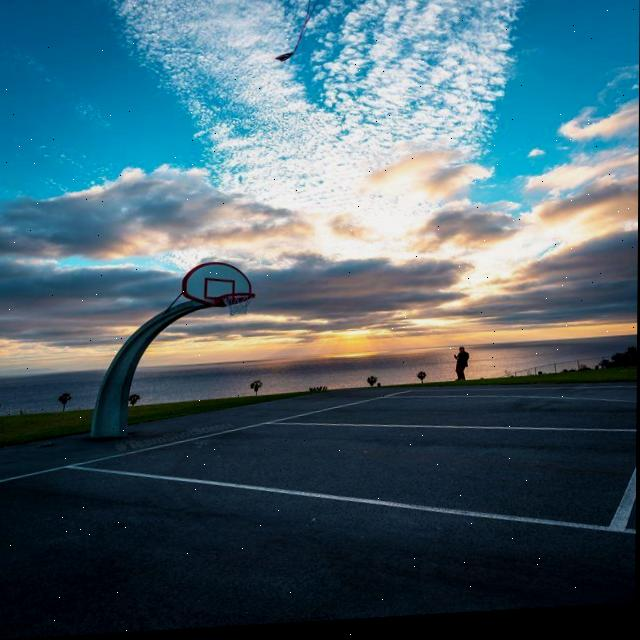hoop: (217, 285, 279, 333)
